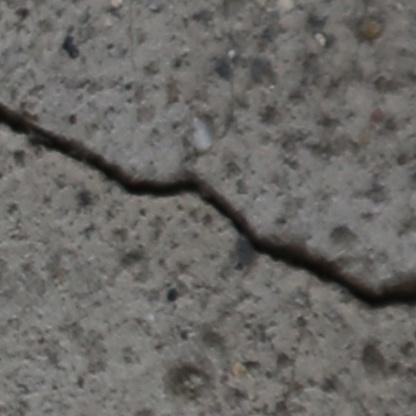Cracks: (0, 97, 416, 316)
